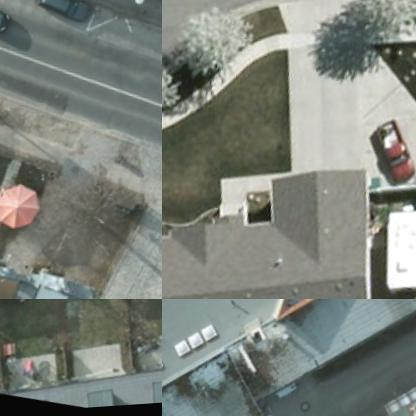camping car: (368, 200, 415, 298)
car: (33, 0, 99, 33), (0, 2, 14, 46)
pickup: (362, 121, 415, 195)
